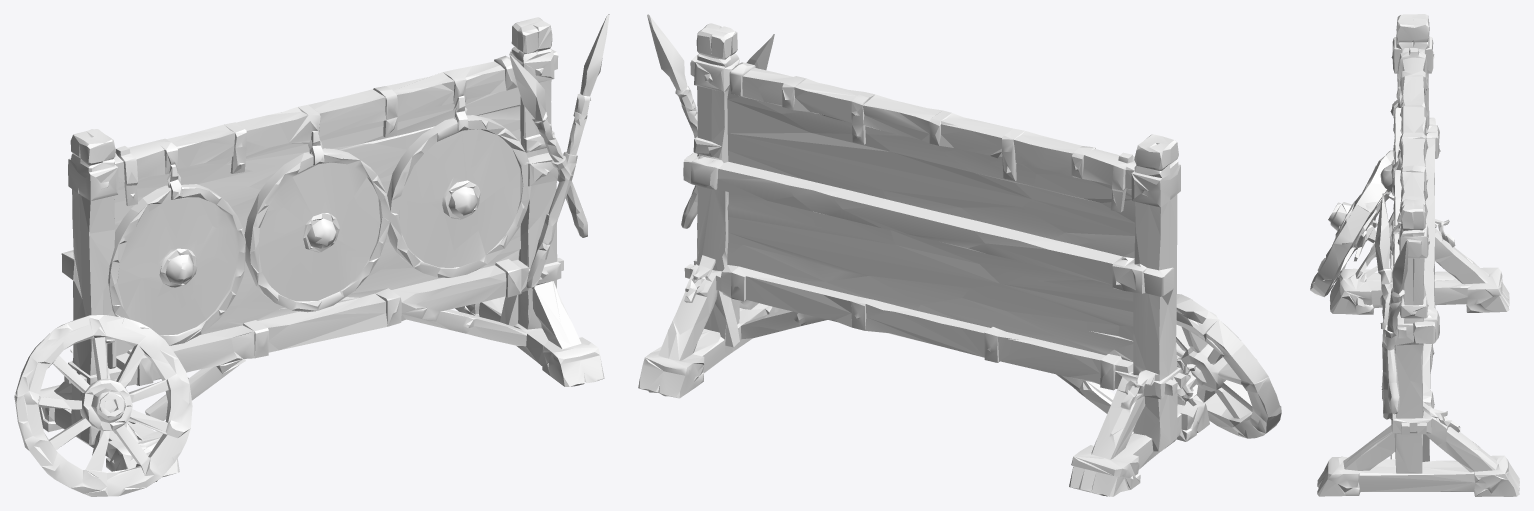
Rendered from shield_stand.glb.
3 views of the same model, side by side, from view 1: azimuth 30°, elevation 25°; view 2: azimuth 150°, elevation 25°; view 3: azimuth 270°, elevation 25° (orthographic). The views are drawn at different scales.
Parts seen in each view (by area): view 1: Mesh_0; view 2: Mesh_0; view 3: Mesh_0.
Part boxes in pixels (x1=…): Mesh_0: x1=14, y1=14, x2=609, y2=496; Mesh_0: x1=638, y1=14, x2=1281, y2=496; Mesh_0: x1=1310, y1=14, x2=1519, y2=496.
Size of the model in its own units: 2.3 by 1.17 by 0.7732.
Materials: 1 (1 with a texture image).
